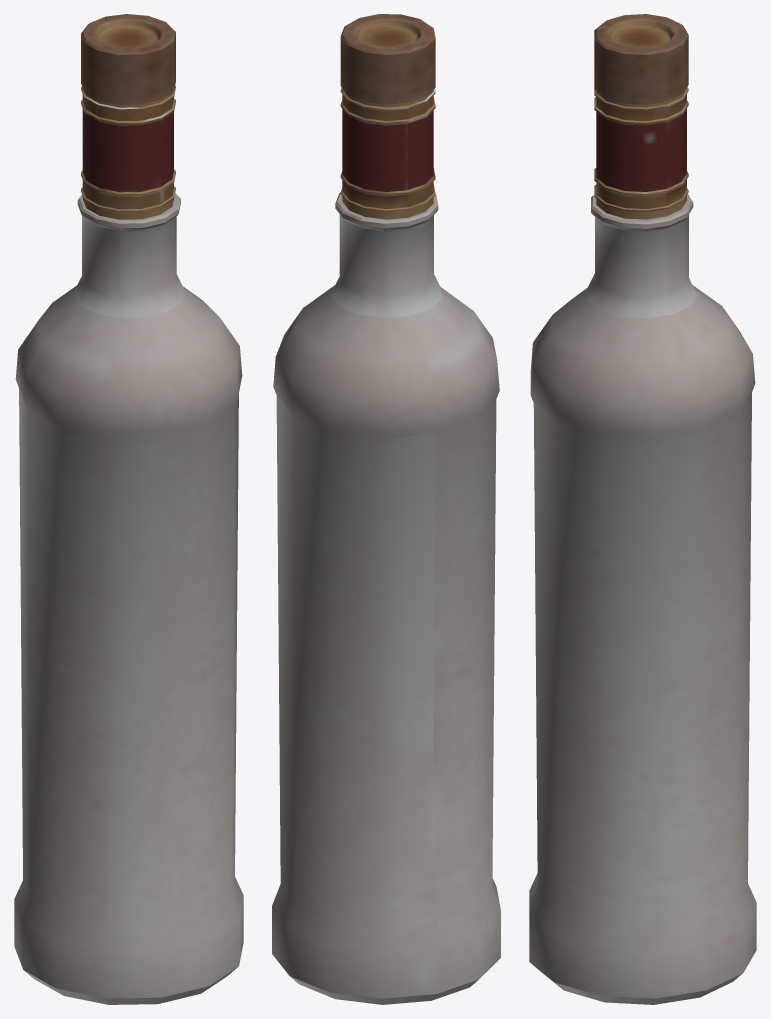
File: vodka.glb
The picture shows the model from 3 angles, left to right: view 1: azimuth 30°, elevation 25°; view 2: azimuth 150°, elevation 25°; view 3: azimuth 270°, elevation 25°; orthographic projection.
Parts seen in each view (by area): view 1: Cylinder, Cylinder.001; view 2: Cylinder, Cylinder.001; view 3: Cylinder, Cylinder.001.
Boxes of the visible parts, left/top/right/bottom form: Cylinder: left=14, top=193, right=243, bottom=1004; Cylinder.001: left=81, top=14, right=175, bottom=219; Cylinder: left=272, top=192, right=500, bottom=1004; Cylinder.001: left=340, top=14, right=435, bottom=219; Cylinder: left=529, top=194, right=756, bottom=1004; Cylinder.001: left=594, top=14, right=688, bottom=219.
Bounding box in the file's own units: 1.1 × 4.9 × 1.09.
1 material, 1 textured.
